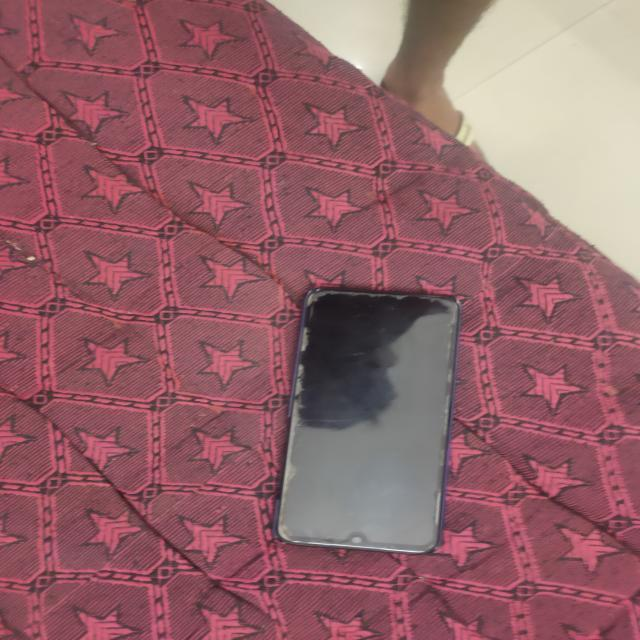Phone: (264, 282, 462, 563)
